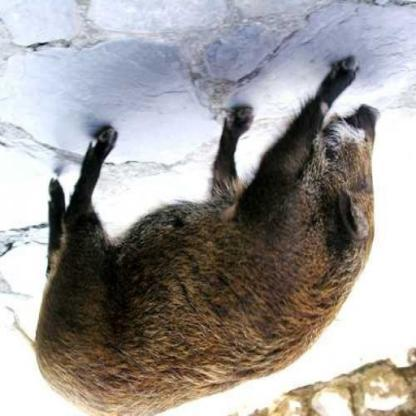boar: (19, 12, 401, 416)
